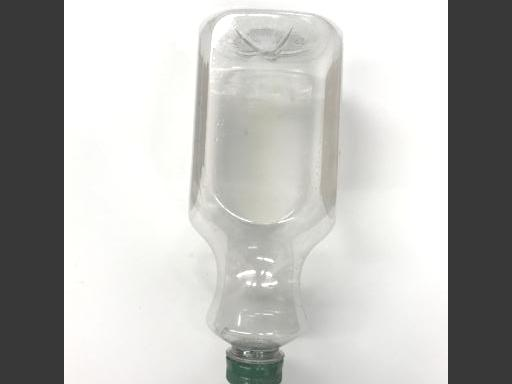bottle: (183, 6, 349, 384)
